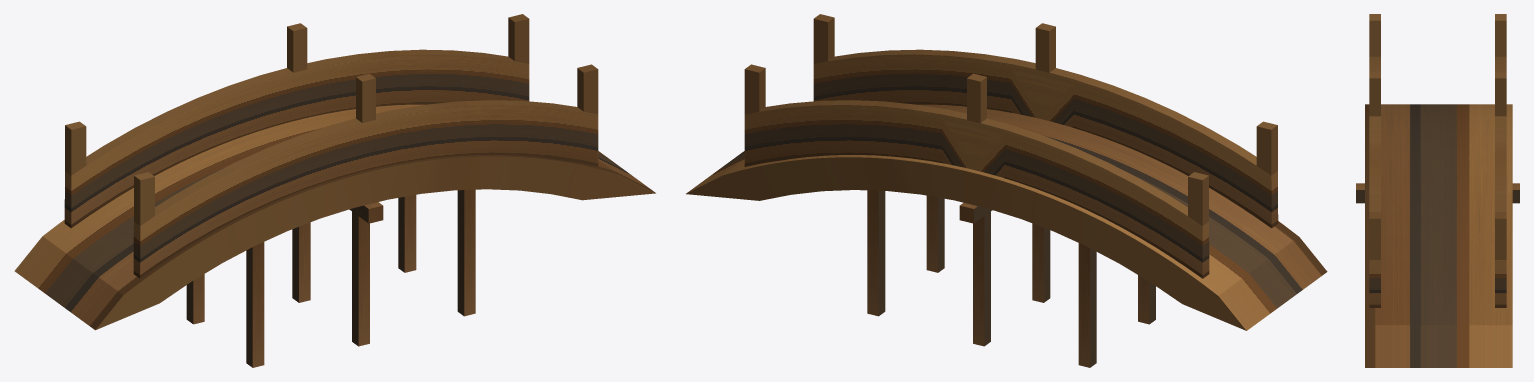
Rendered from SK_Bridge_ACollider.FBX.
3 renders of one model, left to right at view 1: azimuth 30°, elevation 25°; view 2: azimuth 150°, elevation 25°; view 3: azimuth 270°, elevation 25°, orthographic. The views are drawn at different scales.
Parts seen in each view (by area): view 1: SK_Bridge_colliderIgnore, SK_Bridge_collider; view 2: SK_Bridge_colliderIgnore, SK_Bridge_collider; view 3: SK_Bridge_collider, SK_Bridge_colliderIgnore.
Part boxes in pixels (box(x1,y1,x2,y2)): SK_Bridge_colliderIgnore: box(64, 14, 598, 367); SK_Bridge_collider: box(14, 104, 655, 330); SK_Bridge_colliderIgnore: box(744, 14, 1278, 367); SK_Bridge_collider: box(686, 104, 1327, 330); SK_Bridge_collider: box(1365, 104, 1512, 367); SK_Bridge_colliderIgnore: box(1356, 14, 1519, 307).
Bounding box in the file's own units: 607 × 277 × 168.
